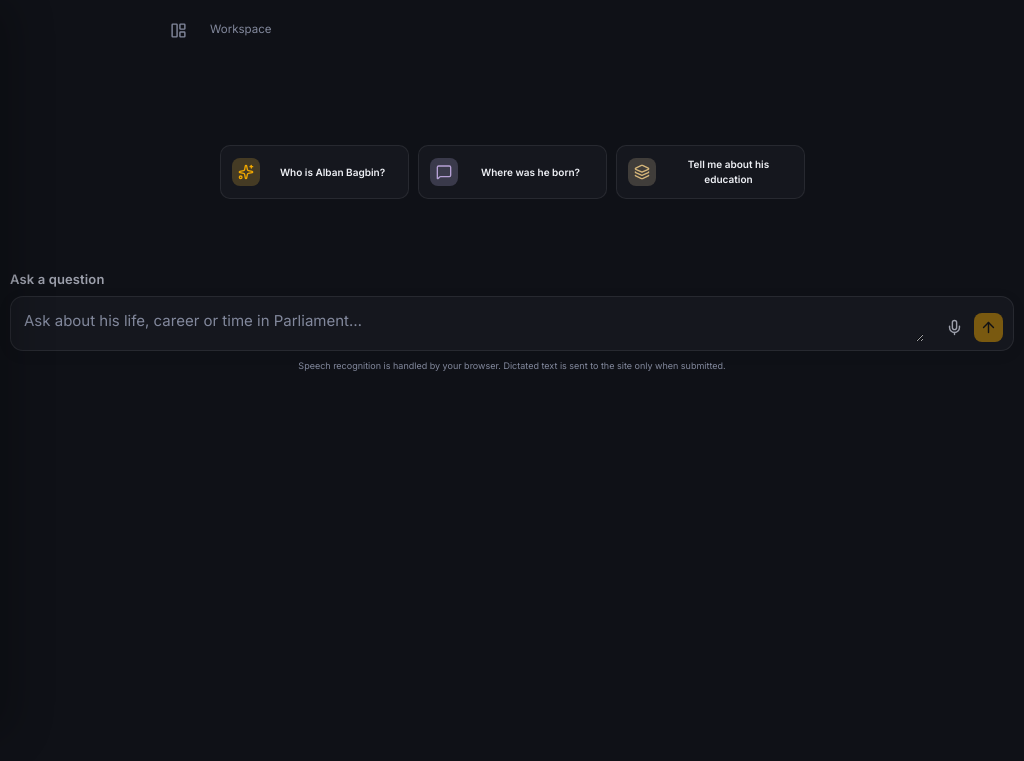
Scenario: /ask research workspace › reads a pasted link as a page outside the archive
This screenshot has width=1024, height=761.
In the text box with placeholder "Ask about his life, career or time in Parliament…": point(474, 323) [24, 305, 924, 342], type "What does this say about education? https://example.com/budget"
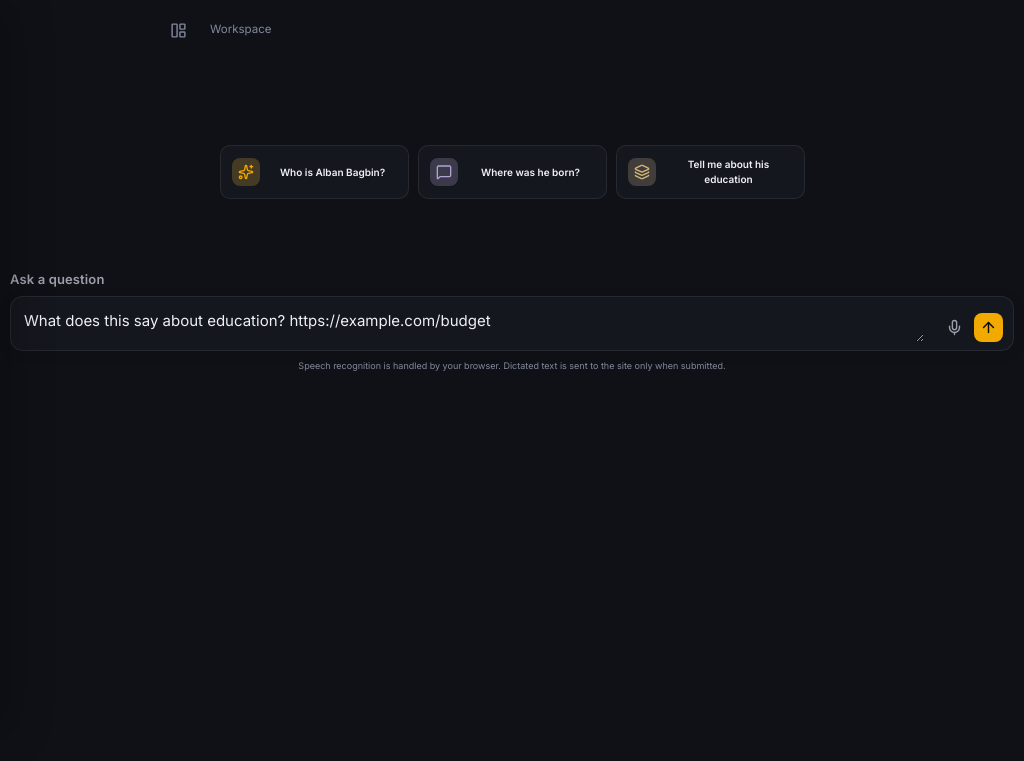
Click the button named "Send question": point(988, 327) [974, 313, 1003, 342]
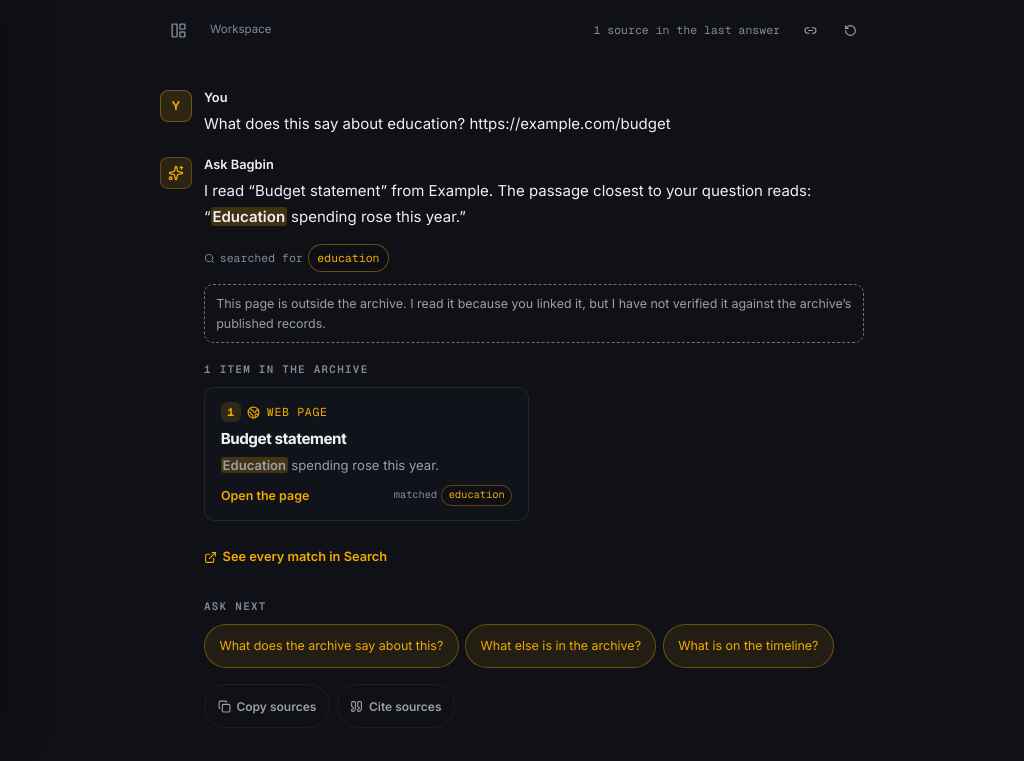
Result: the text "Web page" is shown at [267, 404, 328, 419]
Result: the text "outside the archive" is shown at [216, 296, 851, 331]
